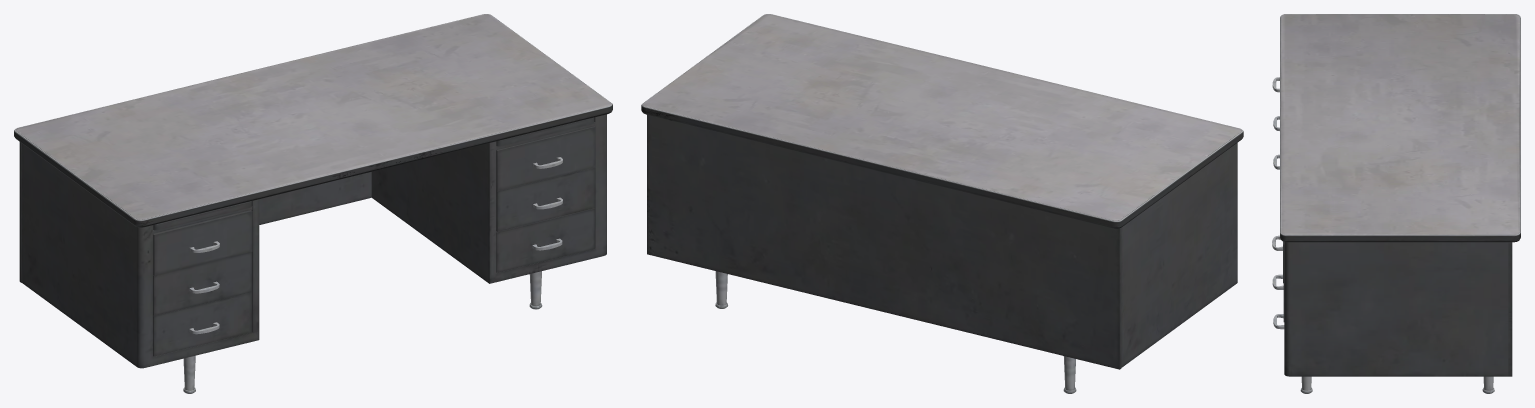
Rendered from metal_office_desk.glb.
3 views of the same model, side by side, from view 1: azimuth 30°, elevation 25°; view 2: azimuth 150°, elevation 25°; view 3: azimuth 270°, elevation 25° (orthographic). The views are drawn at different scales.
Parts seen in each view (by area): view 1: metal_office_desk_drawer_06; view 2: metal_office_desk_drawer_06; view 3: metal_office_desk_drawer_06.
Part boxes in pixels (x1,y1,x2,y2): metal_office_desk_drawer_06: [14, 14, 612, 393]; metal_office_desk_drawer_06: [641, 14, 1243, 393]; metal_office_desk_drawer_06: [1272, 14, 1520, 393].
Size of the model in its own units: 2 by 0.7874 by 0.9471.
1 material, 1 textured.
